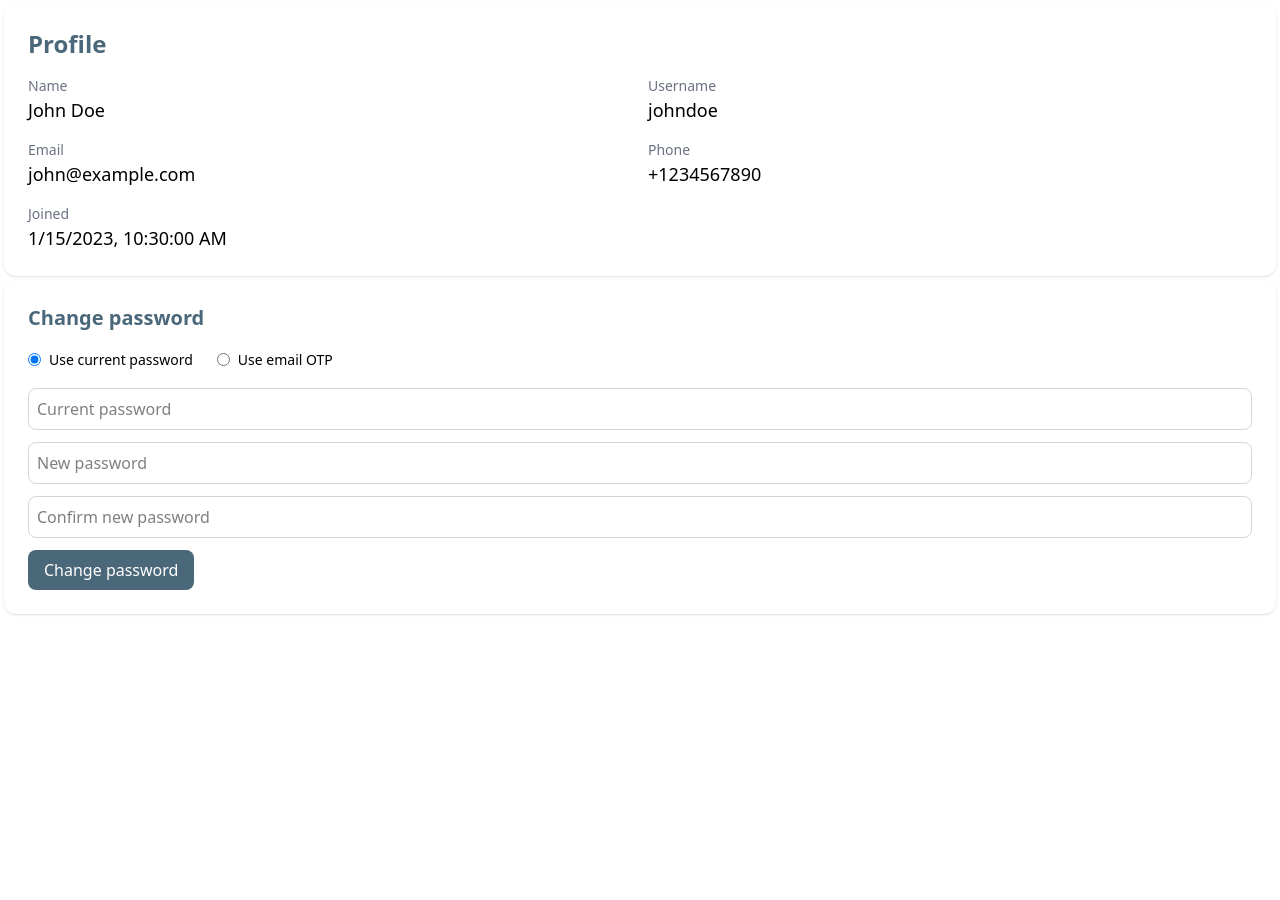
Test: Profile Component › Change Password - Current Password Method › should show error if password fields are empty
Check: the heading "Change password" is shown, box [28,304,204,331]
Step 1. Click the button "Change password" → click(111, 570), box [28,550,194,590]
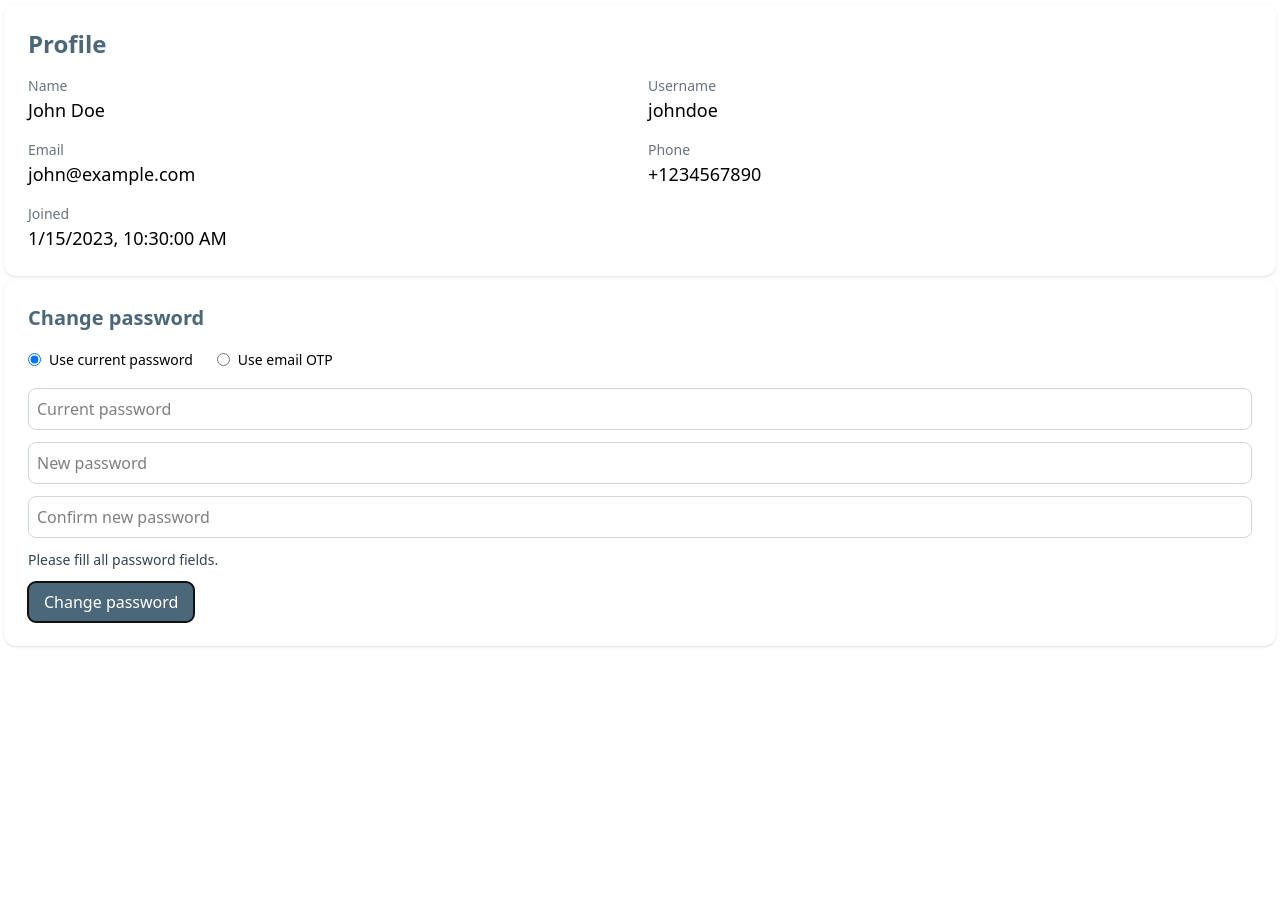
Check: the text "Please fill all password fields." is shown, box [28,550,218,569]
